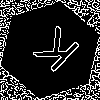K: (25, 25, 82, 82)
